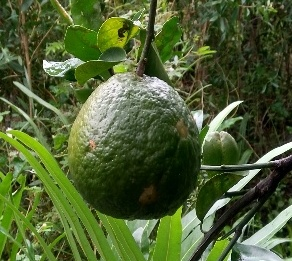Cam: (63, 69, 205, 221)
